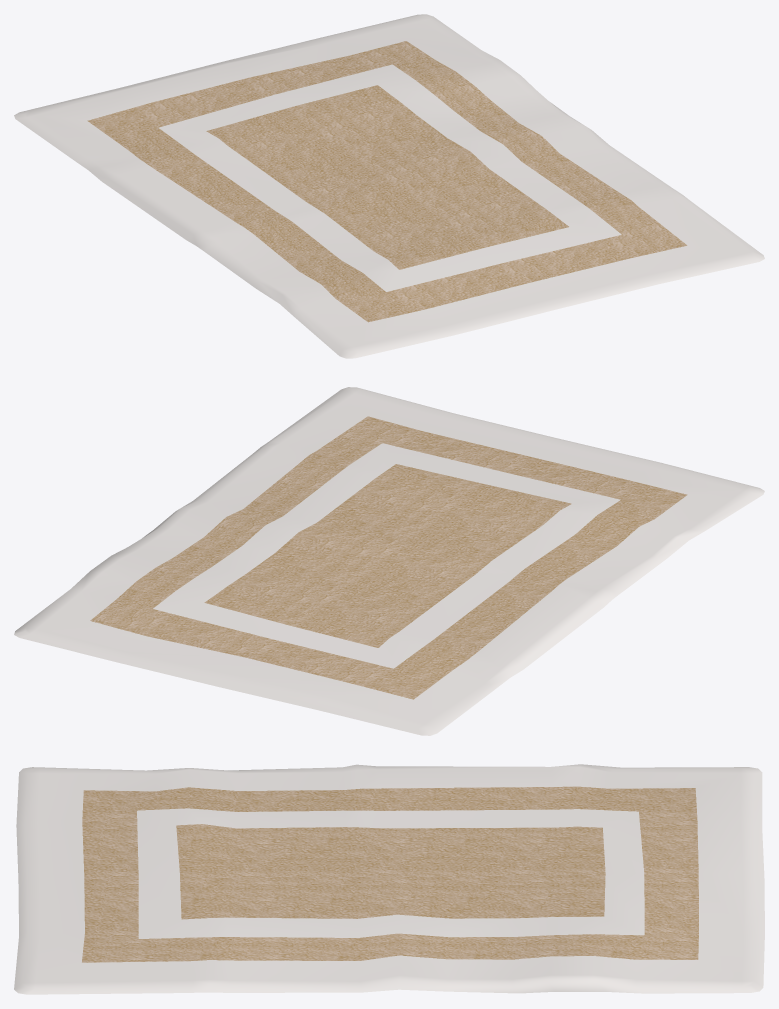
The model's file is carpet_001.fbx.
3 renders of one model, top to bottom at view 1: azimuth 30°, elevation 25°; view 2: azimuth 150°, elevation 25°; view 3: azimuth 270°, elevation 25°, orthographic. The views are drawn at different scales.
Visible parts, largest first — view 1: carpet_001; view 2: carpet_001; view 3: carpet_001.
Part boxes in pixels (x1,y1,x2,y2): carpet_001: (14, 14, 764, 358); carpet_001: (14, 387, 764, 735); carpet_001: (14, 764, 764, 994).
Bounding box in the file's own units: 264 × 368 × 6.99.
